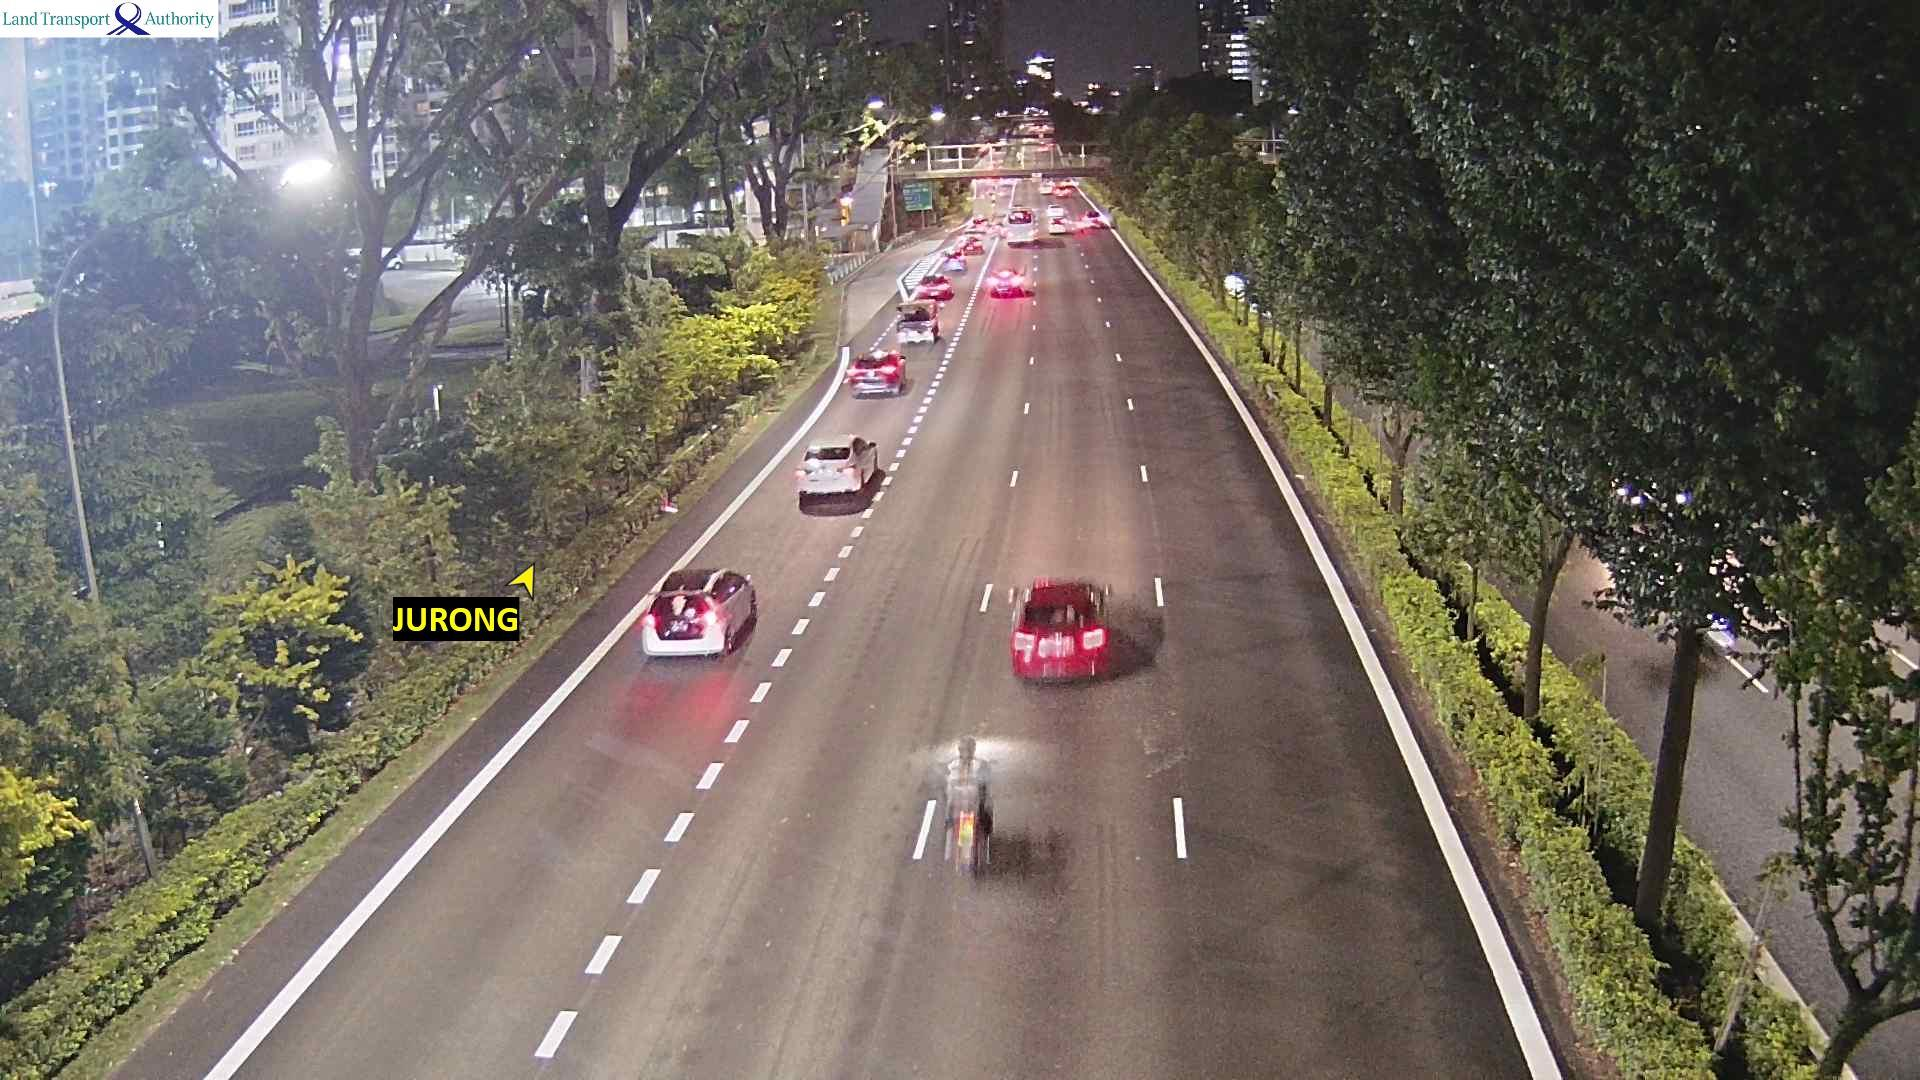bus: (1004, 207, 1036, 247)
cars: (1007, 575, 1112, 683), (640, 564, 757, 659), (793, 433, 878, 497), (844, 348, 906, 396), (0, 276, 47, 323), (894, 298, 939, 345), (986, 266, 1030, 298), (910, 272, 955, 301), (1046, 208, 1079, 233), (1080, 206, 1112, 229), (957, 233, 985, 255), (942, 251, 967, 272), (967, 212, 990, 232), (1051, 179, 1073, 196), (1044, 203, 1065, 220), (1036, 178, 1054, 194)
motorcycle: (942, 735, 994, 877)
